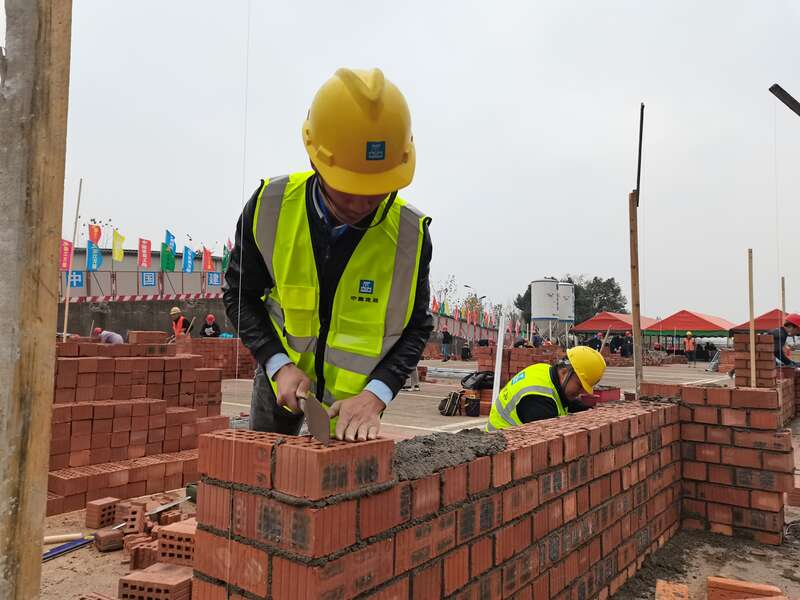safetyhat: (217, 61, 448, 458), (482, 338, 618, 433)
